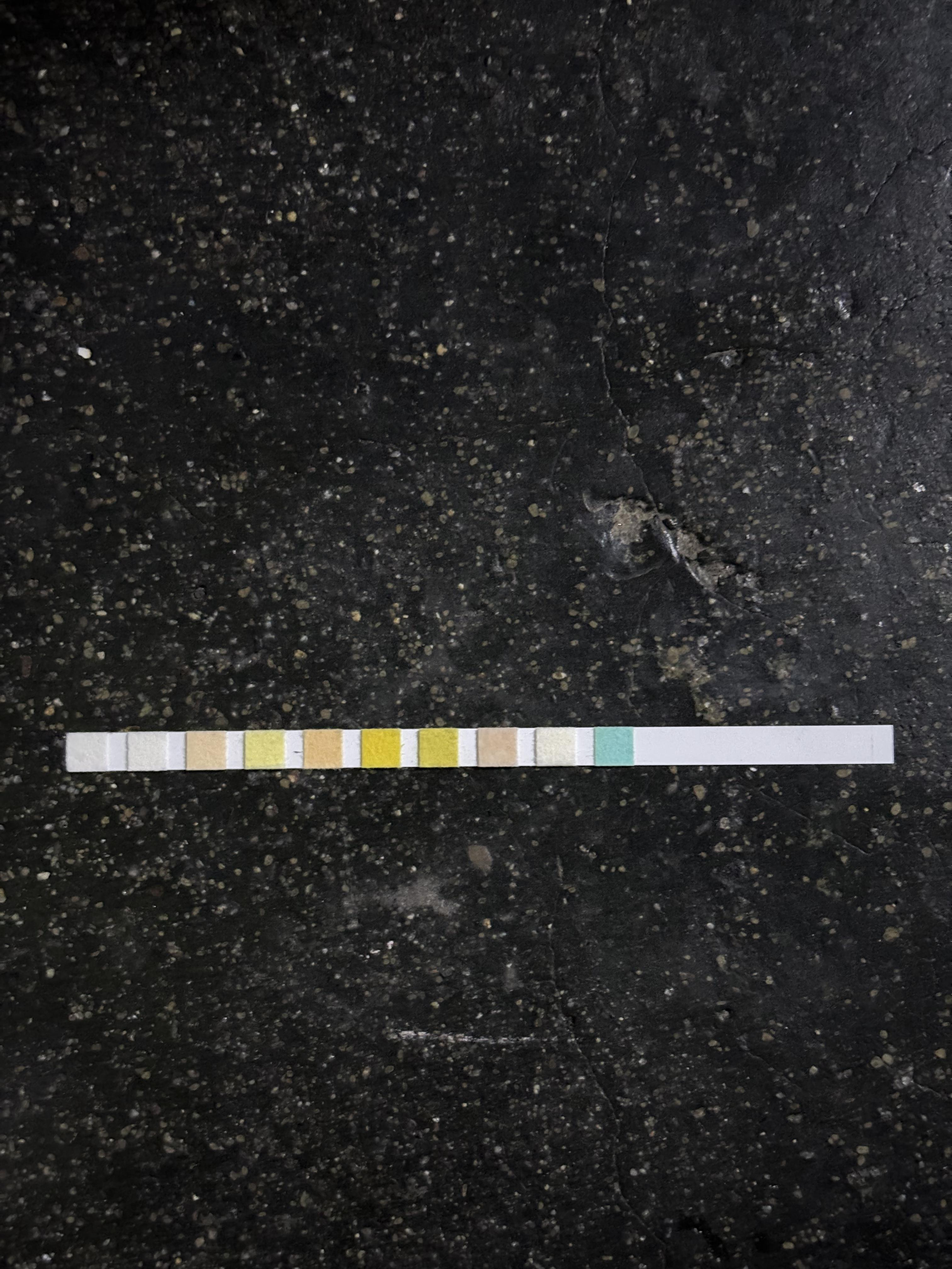Bilirubin: (537, 729, 574, 765)
Blood: (363, 731, 400, 767)
Glucose: (596, 728, 633, 765)
Ketone: (479, 729, 516, 766)
Leukocytes: (68, 733, 107, 771)
Nitrite: (129, 733, 166, 770)
Protein: (247, 732, 284, 768)
SpGravity: (420, 730, 457, 766)
Urobilinogen: (187, 733, 225, 769)
pH: (306, 731, 341, 768)
strip: (67, 725, 895, 773)
